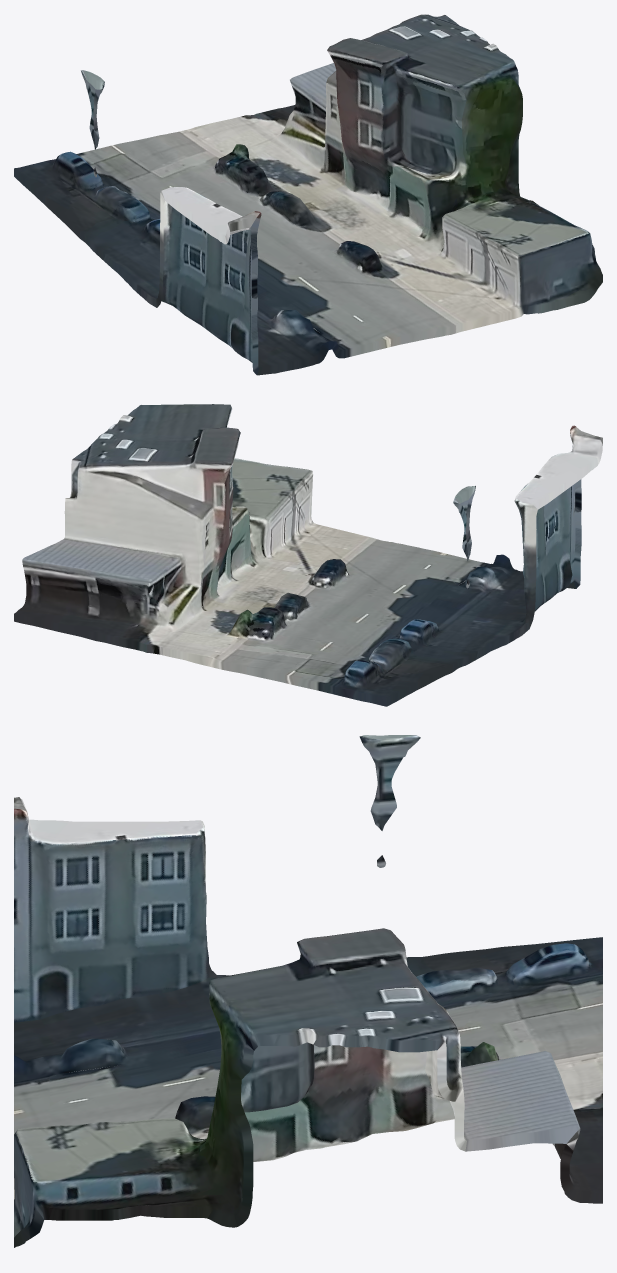
Rendered from z20-167727-405194-h0-yup-uvflip-v3-world.glb.
The picture shows the model from 3 angles, top to bottom: view 1: azimuth 30°, elevation 25°; view 2: azimuth 150°, elevation 25°; view 3: azimuth 270°, elevation 25°; orthographic projection. The views are drawn at different scales.
Size of the model in its own units: 30.16 by 16.36 by 30.32.
Materials: 1 (1 with a texture image).
